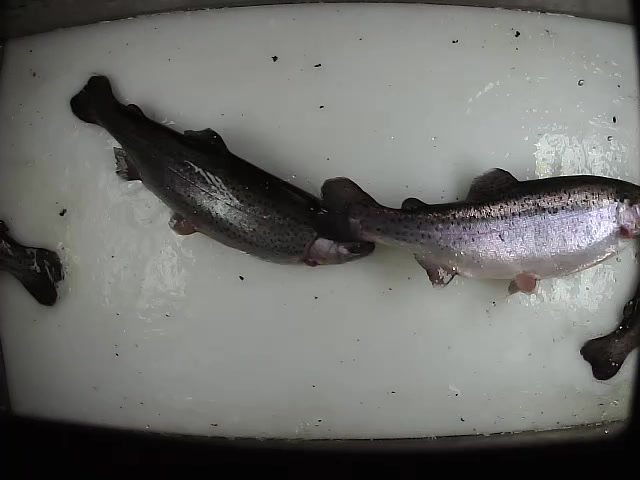fish: (68, 72, 380, 269), (318, 168, 640, 296)
